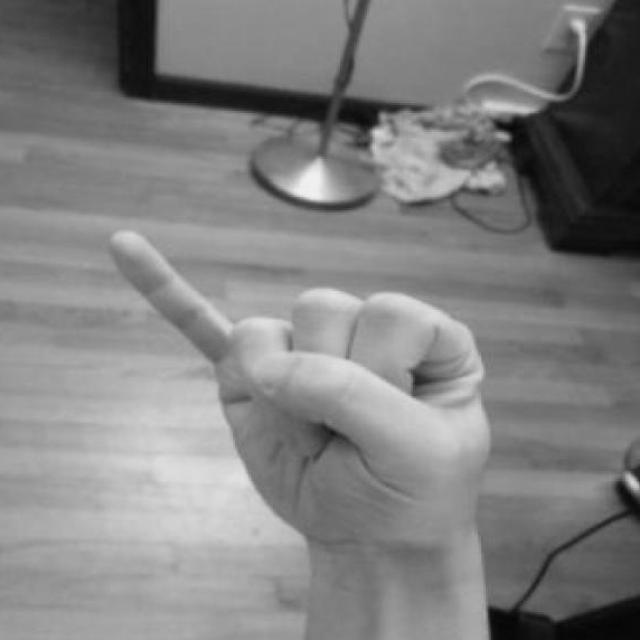I: (90, 203, 505, 601)
